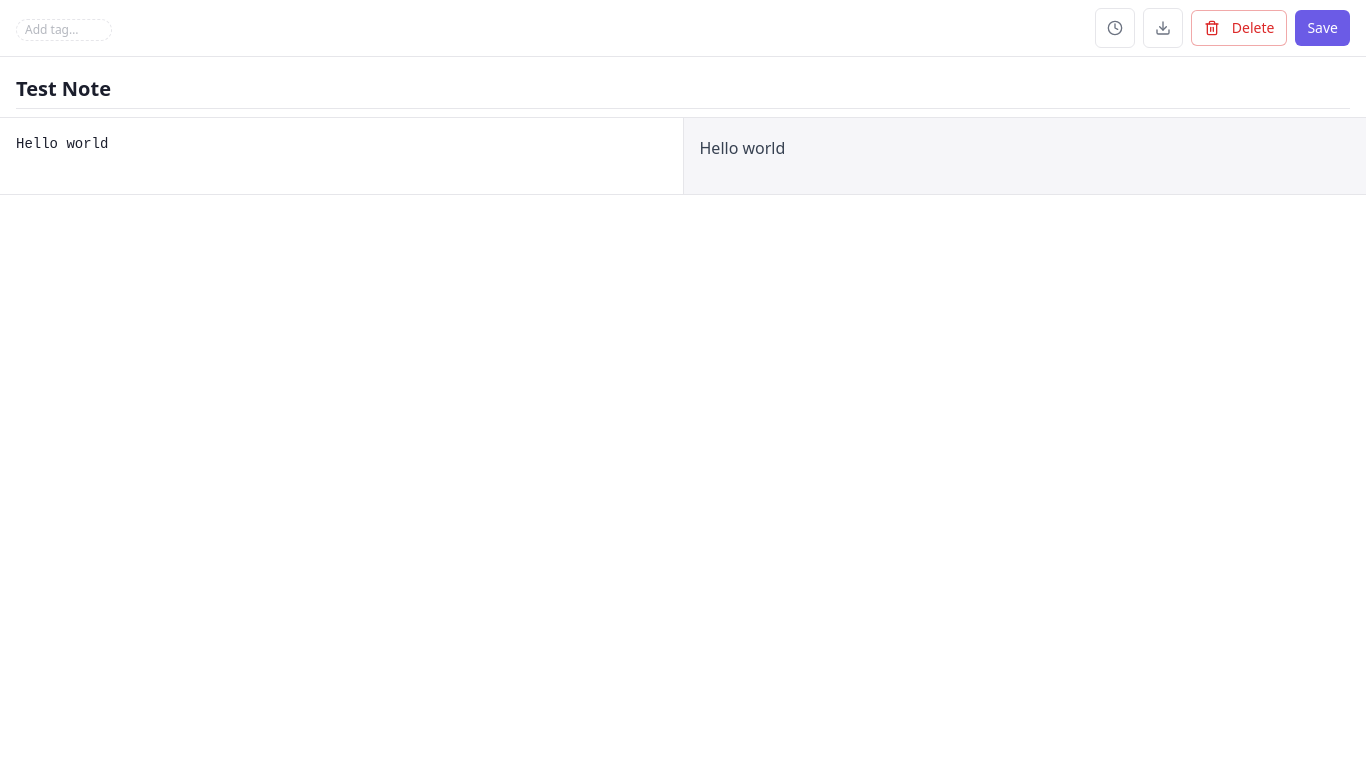
Scenario: VersionHistoryPanel — restore flow › clicking Restore opens the confirmation dialog
Expected: the field showing "Test Note" is shown, [16,69,1350,109]
Click the button named "version history": point(1115, 28) [1095,8,1135,48]
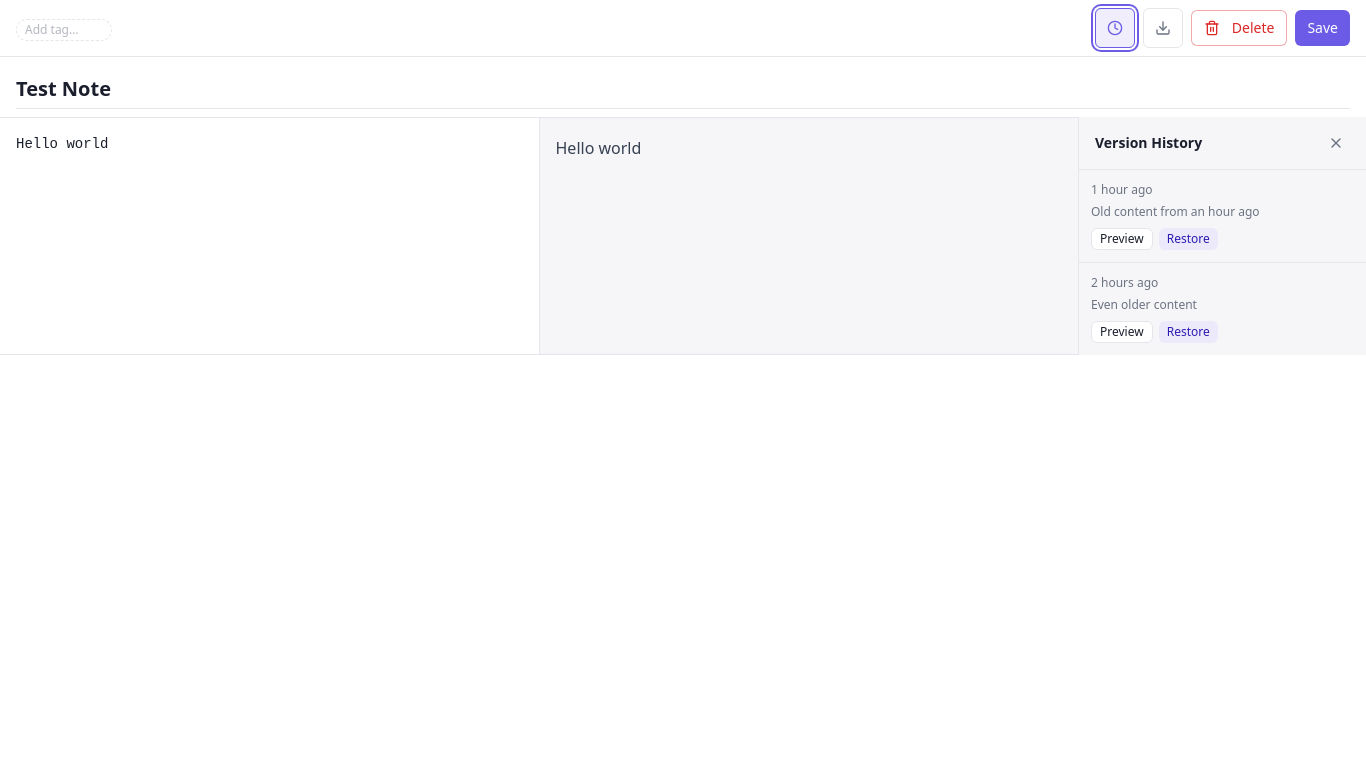
Now the heading "Version History" is shown, box [1095,133,1202,153]
Click the button "Restore" below "1 hour ago": point(1188, 239) [1159,228,1218,250]
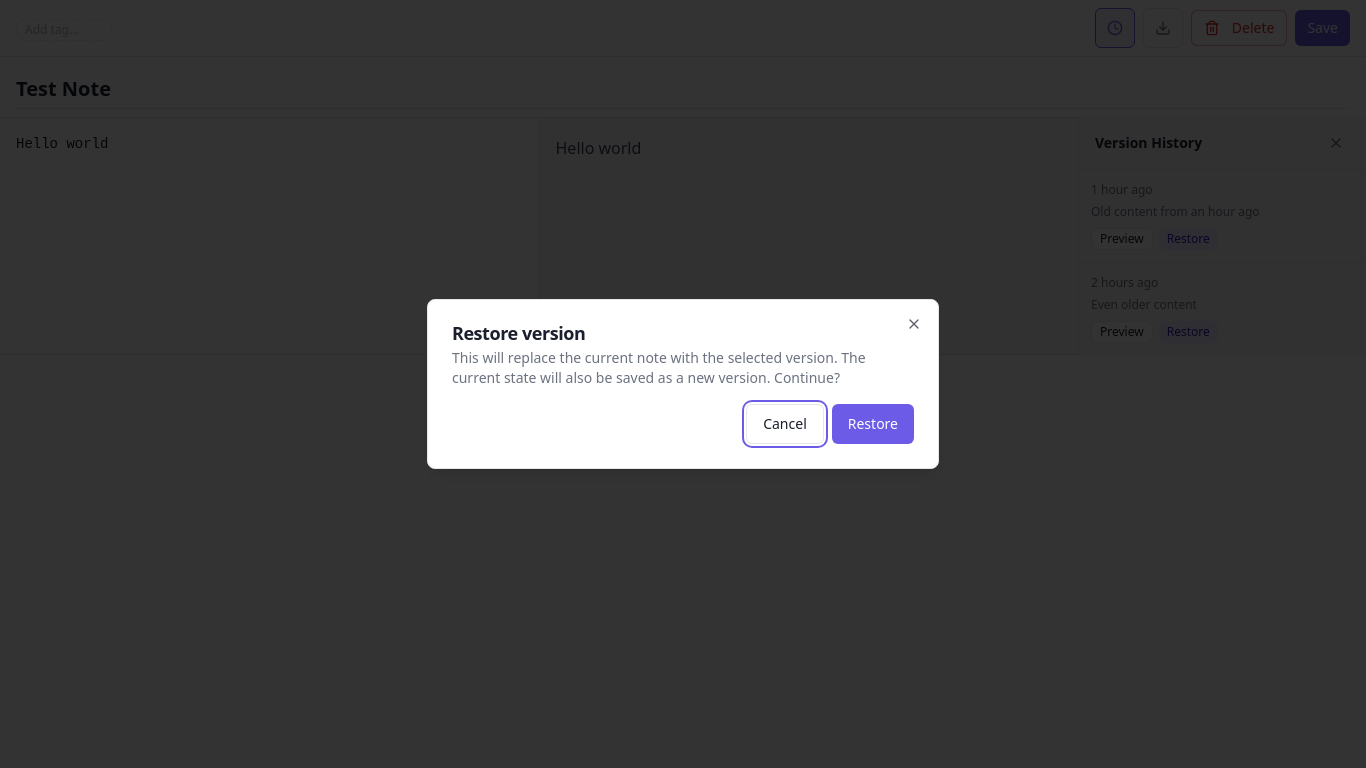
Now the dialog is shown, box [427,299,939,469]
Now the text "This will replace the current note with the selected version" is shown, box [452,348,866,387]
